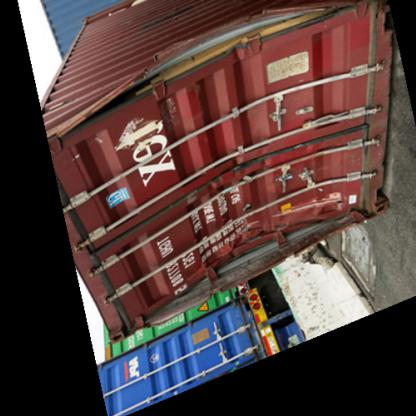Damage: (112, 9, 338, 104)
